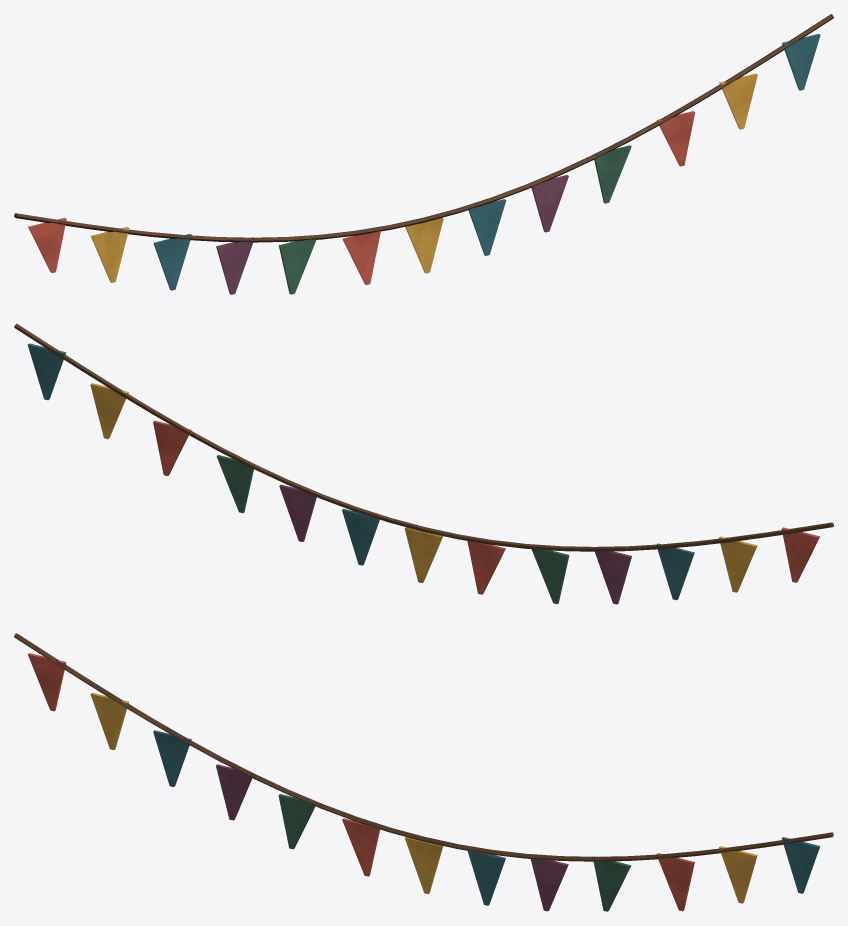
Rendered from bunting.glb.
3 renders of one model, top to bottom at view 1: azimuth 30°, elevation 25°; view 2: azimuth 150°, elevation 25°; view 3: azimuth 330°, elevation 25°, orthographic.
Parts seen in each view (by area): view 1: Bunting; view 2: Bunting; view 3: Bunting.
Boxes of the visible parts, x1,y1,x2,y2 form: Bunting: (14,14,833,294); Bunting: (14,323,833,604); Bunting: (14,633,833,911).
Size of the model in its own units: 6.41 by 1.2 by 0.0326.
1 material, 1 textured.
